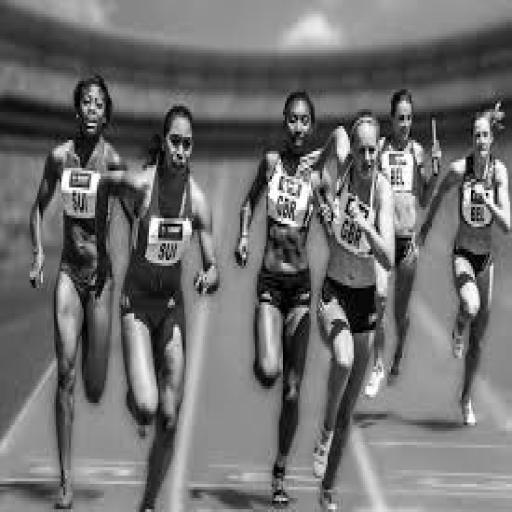running: (92, 101, 224, 509), (233, 87, 352, 509), (26, 70, 130, 509), (308, 112, 398, 509), (410, 98, 510, 431), (363, 84, 441, 403)
